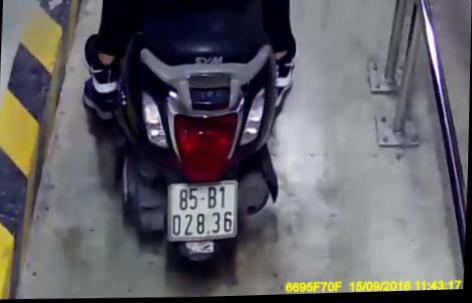LP: (167, 181, 238, 242)
